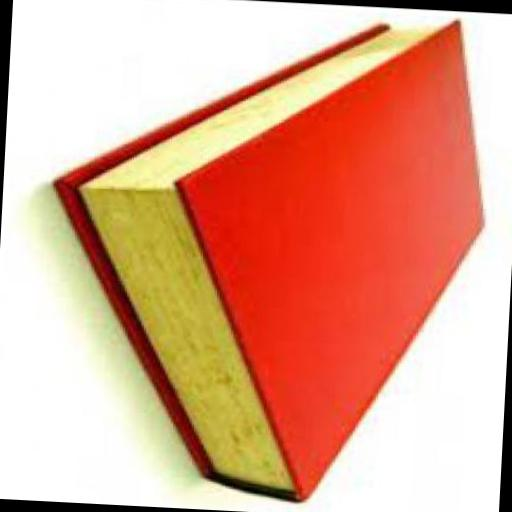paper: (40, 0, 498, 511)
